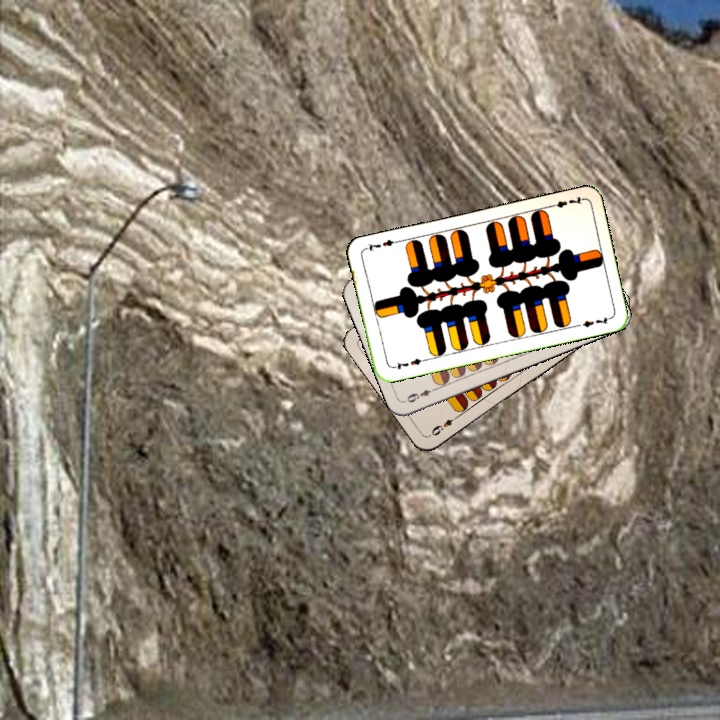E7: (545, 192, 585, 211), (388, 354, 428, 372)
E9: (426, 411, 462, 439), (401, 383, 440, 405)
